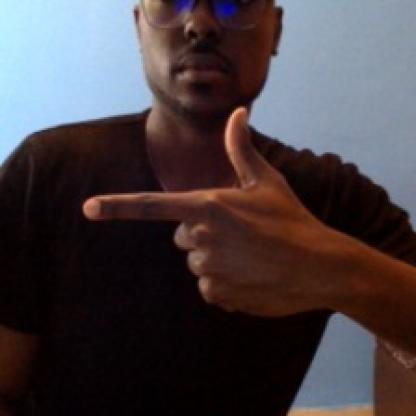TURN RIGHT: (80, 182, 385, 335)
